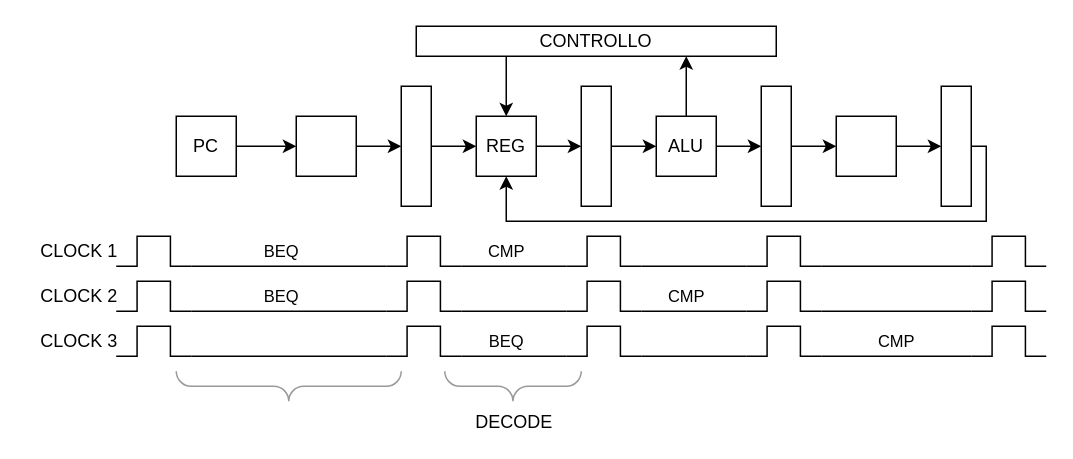
The diagram is 1073 pixels wide and 459 high, and some of its shapes have lost their labels. Here are the shapes that lost their labels. From the top down, the box of each, then its label:
(295, 115, 356, 176): MI
(835, 115, 896, 176): MD
(175, 370, 401, 401): FETCH
